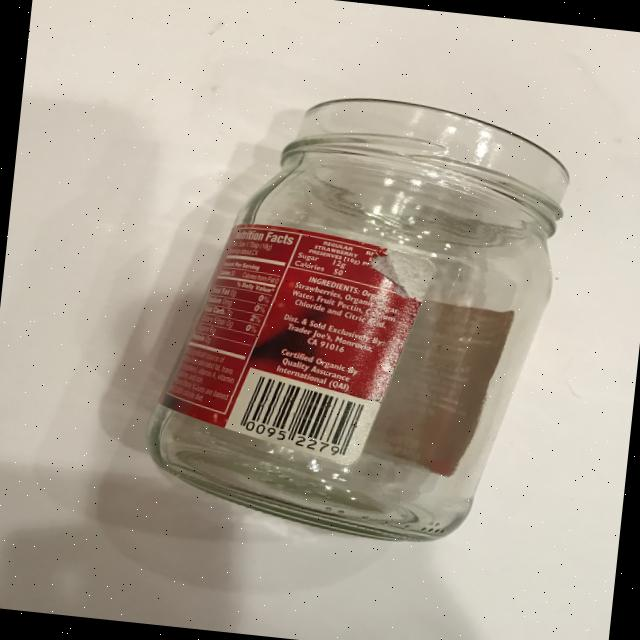glass: (144, 83, 566, 546)
